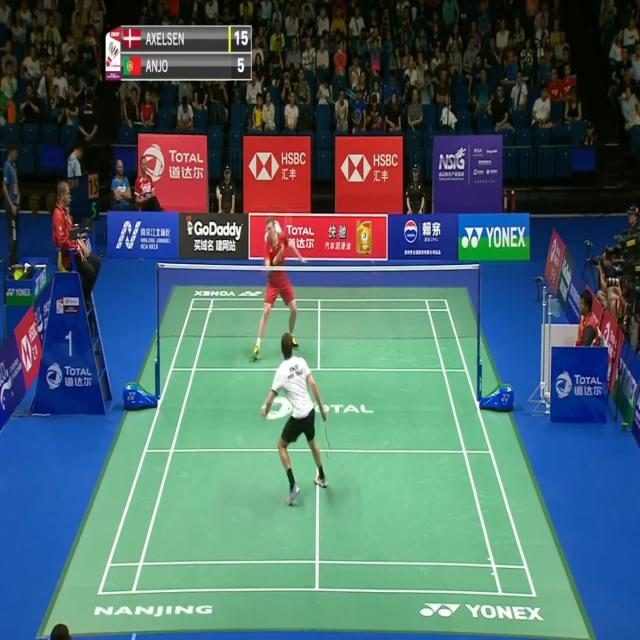Player1: (260, 324, 332, 514)
Player2: (248, 212, 312, 374)
